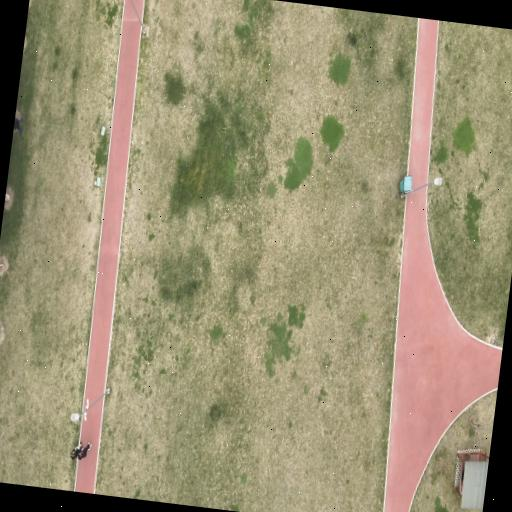person: (78, 442, 91, 459), (14, 116, 24, 135), (71, 442, 82, 458)
